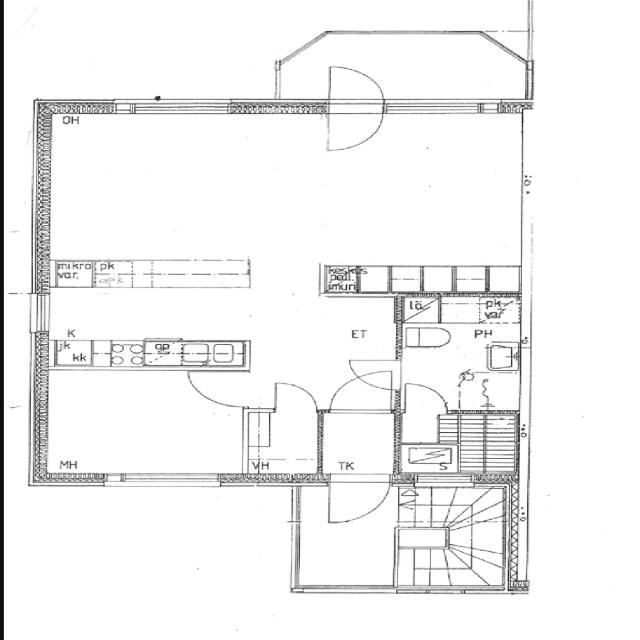door: (317, 61, 389, 157), (322, 471, 391, 527), (180, 367, 243, 410), (338, 358, 402, 400), (269, 380, 321, 417), (399, 380, 449, 412)
window: (100, 469, 220, 492), (386, 96, 494, 119), (116, 98, 234, 118), (303, 582, 396, 598), (24, 289, 52, 337), (414, 586, 496, 599)
zone: (33, 363, 244, 480), (38, 281, 250, 369), (399, 294, 521, 412), (394, 410, 521, 482), (241, 412, 324, 480), (319, 412, 400, 481), (52, 260, 93, 288), (94, 261, 136, 281)
